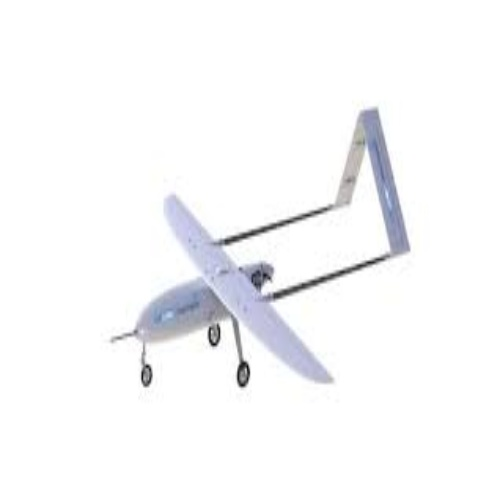uav: (102, 105, 414, 394)
